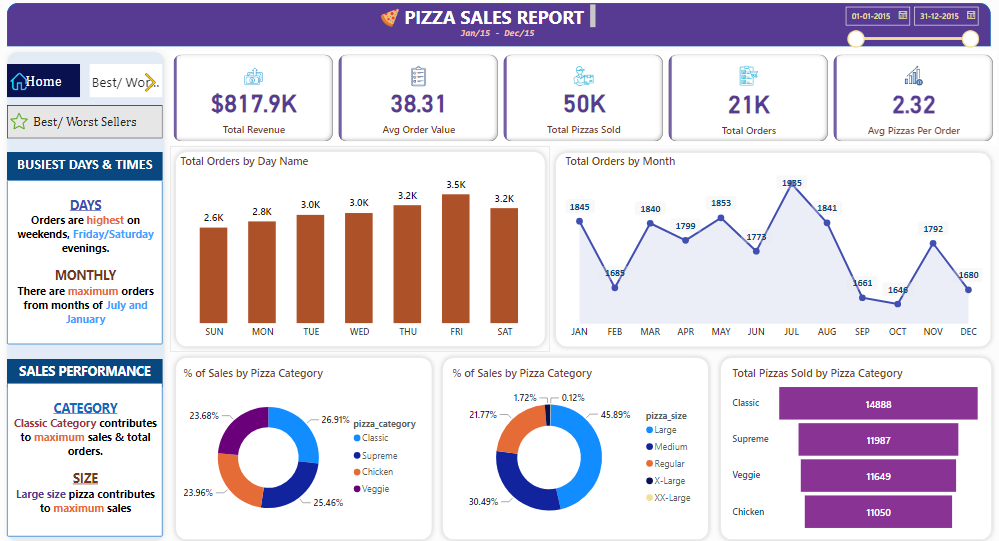

What the dashboard file says about the page in this screenshot:
{"tool":"powerbi","page":{"name":"Home","canvas":[1500,820],"ordinal":0},"visuals":[{"type":"shape","box":[15.5,8.5,1466.6,65],"z":0},{"type":"textbox","box":[601.9,5.4,295.5,44.9],"z":1000},{"type":"image","box":[566.5,12.3,38.1,38.1],"z":2000},{"type":"textbox","box":[106,9.9,158.2,41],"z":3000},{"type":"textbox","box":[168.1,38.1,89,33.9],"z":4000},{"type":"slicer","fields":{"Values":["pizza_sales.order_date"]},"box":[1252.5,3.9,220.1,73.4],"z":6000},{"type":"textbox","box":[686.3,39.5,128,30],"z":7000},{"type":"shape","box":[7.2,74.5,250.1,744.2],"z":8000},{"type":"shape","box":[257.4,222,567.8,307.7],"z":9000},{"type":"cardVisual","fields":{"Data":["pizza_sales.Total Revenue","pizza_sales.Avg Order Value","pizza_sales.Total Pizzas Sold","pizza_sales.Total Orders","pizza_sales.Avg Pizzas Per Order"]},"box":[257.5,79.8,1233.2,140.3],"z":10000},{"type":"shape","box":[257.5,529.1,399.1,288.4],"z":11000},{"type":"shape","box":[825.2,223.3,665.9,306.4],"z":12000},{"type":"areaChart","fields":{"Category":["pizza_sales.Month"],"Y":["pizza_sales.Total Orders"]},"box":[841.9,234.3,632.1,283.2],"z":13000},{"type":"columnChart","fields":{"Y":["pizza_sales.Total Orders"],"Category":["pizza_sales.Day Name"]},"box":[269,234.3,544.5,283.2],"z":14000},{"type":"shape","box":[656.5,529.1,413.2,288.4],"z":15000},{"type":"shape","box":[1069.7,529.1,420.9,288.4],"z":16000},{"type":"donutChart","title":"% of Sales by Pizza Category","fields":{"Category":["pizza_sales.pizza_category"],"Y":["pizza_sales.Total Revenue"]},"box":[273.3,550.2,372.4,251.8],"z":17000},{"type":"donutChart","title":"% of Sales by Pizza Category","fields":{"Y":["pizza_sales.Total Revenue"],"Category":["pizza_sales.pizza_size"]},"box":[674.4,550.2,378.4,251.8],"z":18000},{"type":"funnel","title":"Total Pizzas Sold by Pizza Category","fields":{"Category":["pizza_sales.pizza_category"],"Y":["pizza_sales.Total Pizzas Sold"]},"box":[1090.9,550.2,380.8,251.8],"z":19000},{"type":"pageNavigator","box":[15.6,161.1,232,50.5],"z":20000},{"type":"textbox","box":[15.6,272.9,232,245.3],"z":21000},{"type":"textbox","box":[15.4,230.4,231.7,42.5],"z":22000},{"type":"textbox","box":[15.4,539.4,231.7,42.5],"z":23000},{"type":"textbox","box":[15.4,575.4,231.7,229.1],"z":24000},{"type":"pageNavigator","box":[15.6,99.8,232,50.5],"z":25000},{"type":"image","box":[11.6,106.8,43.8,37.3],"z":26000},{"type":"image","box":[209.8,108.1,37.3,37.3],"z":27000},{"type":"image","box":[11.6,167.3,42.5,36],"z":28000}]}

Visuals, with their boxes on the page's 1500x820 design canvas (x1, y1, x2, y2). These are canvas units, not pixel positions in the 999x541 screenshot, which may show the page scaled, cropped or inside an application window:
shape: BBox(16, 8, 1482, 74)
textbox: BBox(602, 5, 897, 50)
image: BBox(566, 12, 605, 50)
textbox: BBox(106, 10, 264, 51)
textbox: BBox(168, 38, 257, 72)
slicer - pizza_sales.order_date: BBox(1252, 4, 1473, 77)
textbox: BBox(686, 40, 814, 70)
shape: BBox(7, 74, 257, 819)
shape: BBox(257, 222, 825, 530)
cardVisual - pizza_sales.Total Revenue x pizza_sales.Avg Order Value: BBox(258, 80, 1491, 220)
shape: BBox(258, 529, 657, 818)
shape: BBox(825, 223, 1491, 530)
areaChart - pizza_sales.Month x pizza_sales.Total Orders: BBox(842, 234, 1474, 518)
columnChart - pizza_sales.Total Orders x pizza_sales.Day Name: BBox(269, 234, 814, 518)
shape: BBox(656, 529, 1070, 818)
shape: BBox(1070, 529, 1491, 818)
"% of Sales by Pizza Category" donutChart: BBox(273, 550, 646, 802)
"% of Sales by Pizza Category" donutChart: BBox(674, 550, 1053, 802)
"Total Pizzas Sold by Pizza Category" funnel: BBox(1091, 550, 1472, 802)
pageNavigator: BBox(16, 161, 248, 212)
textbox: BBox(16, 273, 248, 518)
textbox: BBox(15, 230, 247, 273)
textbox: BBox(15, 539, 247, 582)
textbox: BBox(15, 575, 247, 804)
pageNavigator: BBox(16, 100, 248, 150)
image: BBox(12, 107, 55, 144)
image: BBox(210, 108, 247, 145)
image: BBox(12, 167, 54, 203)
